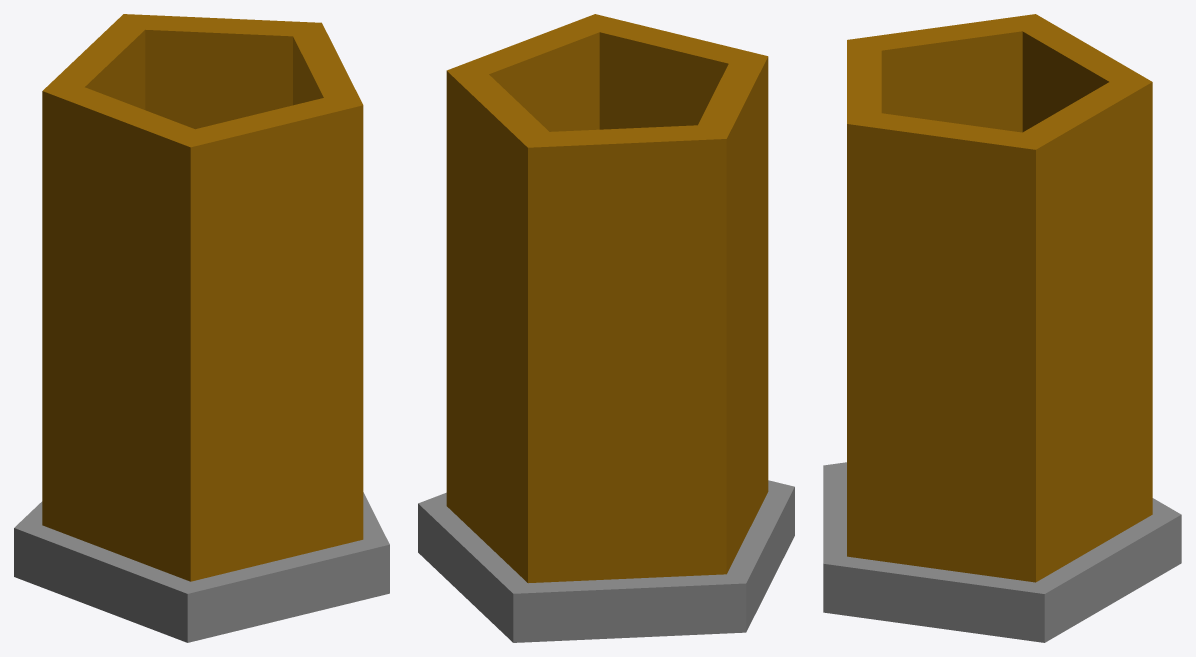
File: Turret_BulletShell.fbx
3 views of the same model, side by side, from view 1: azimuth 30°, elevation 25°; view 2: azimuth 150°, elevation 25°; view 3: azimuth 270°, elevation 25° (orthographic).
Visible parts, largest first — view 1: Cylinder; view 2: Cylinder; view 3: Cylinder.
Part boxes in pixels (box(x1,y1,x2,y2)): Cylinder: box(14, 14, 389, 642); Cylinder: box(418, 14, 794, 642); Cylinder: box(823, 14, 1181, 642).
Size of the model in its own units: 66.81 by 94.3 by 63.54.
